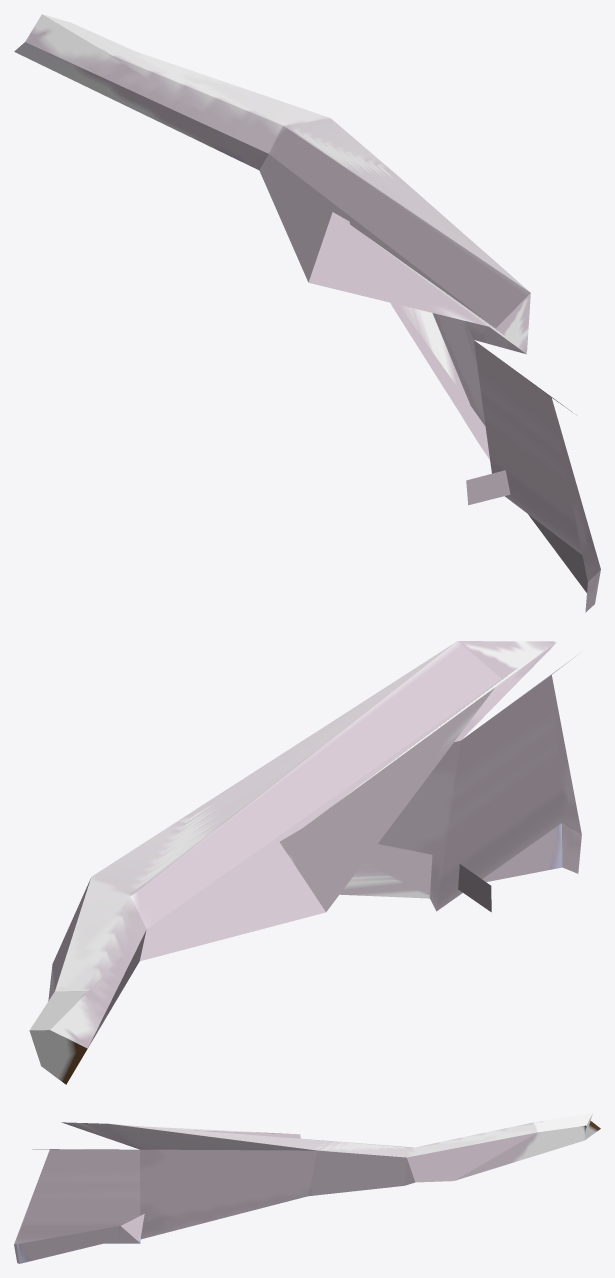
The model's file is player_arm.obj.
3 renders of one model, top to bottom at view 1: azimuth 30°, elevation 25°; view 2: azimuth 150°, elevation 25°; view 3: azimuth 270°, elevation 25°, orthographic. The views are drawn at different scales.
Parts seen in each view (by area): view 1: Cube.001; view 2: Cube.001; view 3: Cube.001.
Part boxes in pixels (<box>): Cube.001: <box>14,14,600,612</box>; Cube.001: <box>29,641,581,1084</box>; Cube.001: <box>14,1113,600,1263</box>.
Size of the model in its own units: 0.3679 by 0.594 by 2.16.
